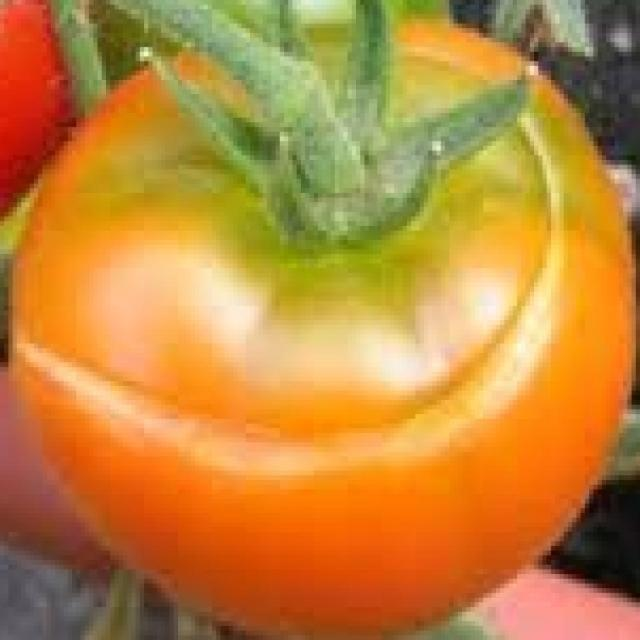Cracking Fruit: (12, 24, 383, 347)
